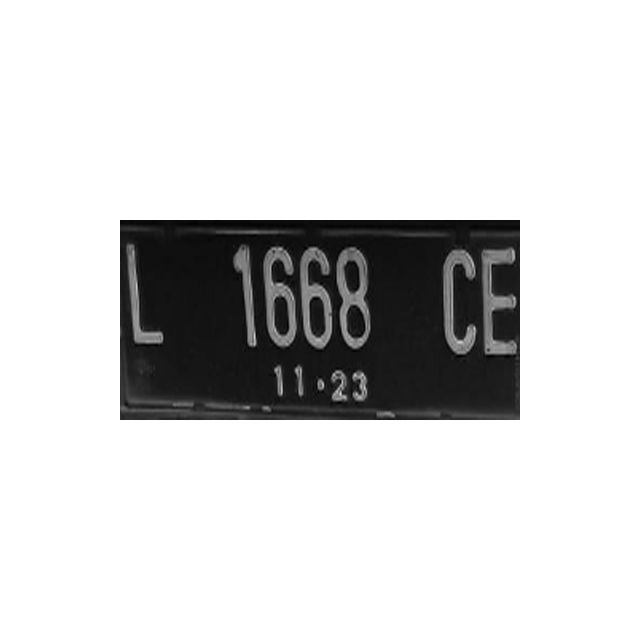contain: (124, 235, 170, 352), (216, 239, 262, 356), (334, 240, 379, 356), (435, 241, 480, 357), (479, 240, 519, 360), (259, 238, 297, 355), (300, 237, 335, 355)
